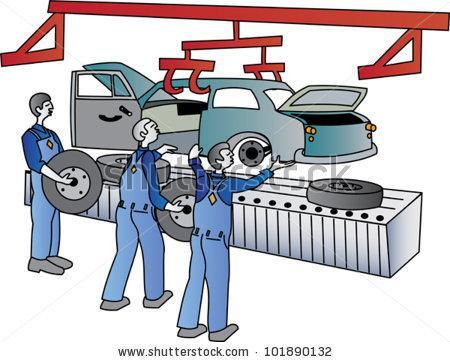car: (67, 60, 377, 168)
person: (181, 142, 300, 343), (102, 118, 175, 311), (20, 92, 75, 277)
